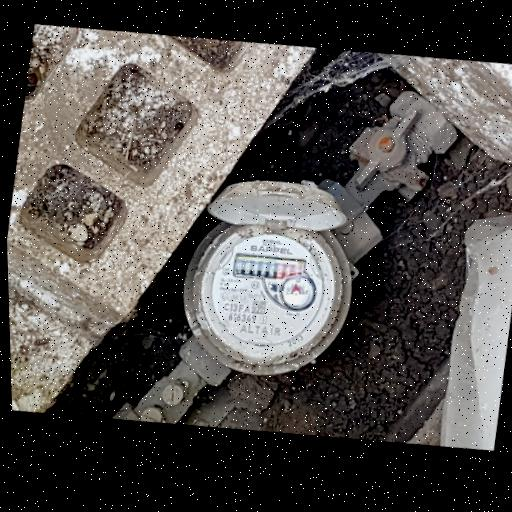0: (233, 258, 245, 275), (242, 258, 252, 275)
1: (249, 259, 260, 276), (282, 262, 293, 279)
2: (274, 261, 285, 278)
4: (266, 261, 277, 277)
7: (258, 260, 269, 276)
border_water_meter_number: (231, 249, 306, 287)
